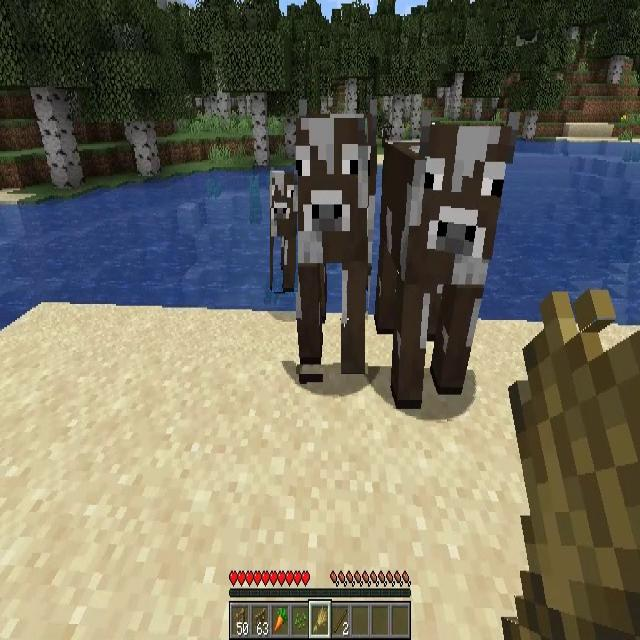cow: (376, 128, 510, 404), (296, 118, 368, 374), (270, 170, 298, 292)
